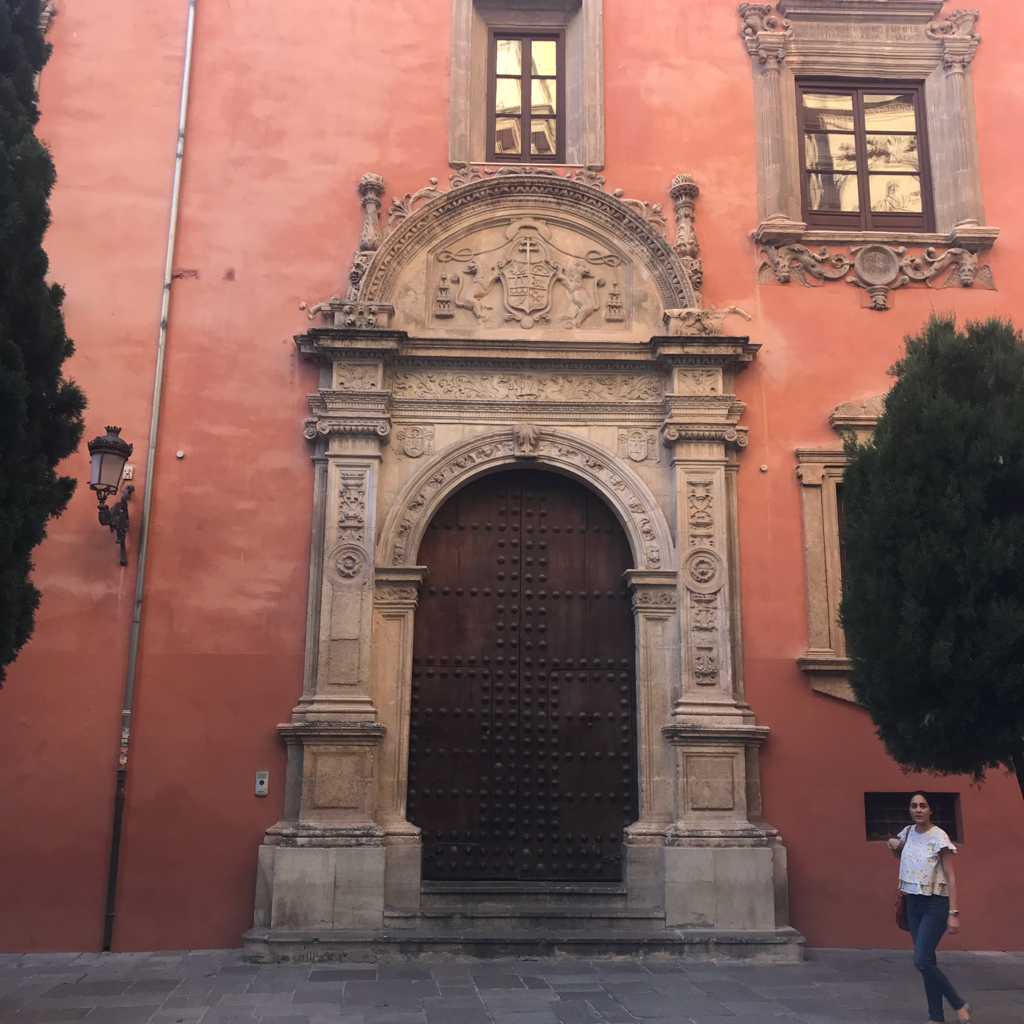arco-medio-punto: (362, 170, 687, 340), (402, 445, 651, 598)
vano-adintelado: (758, 30, 990, 234)
